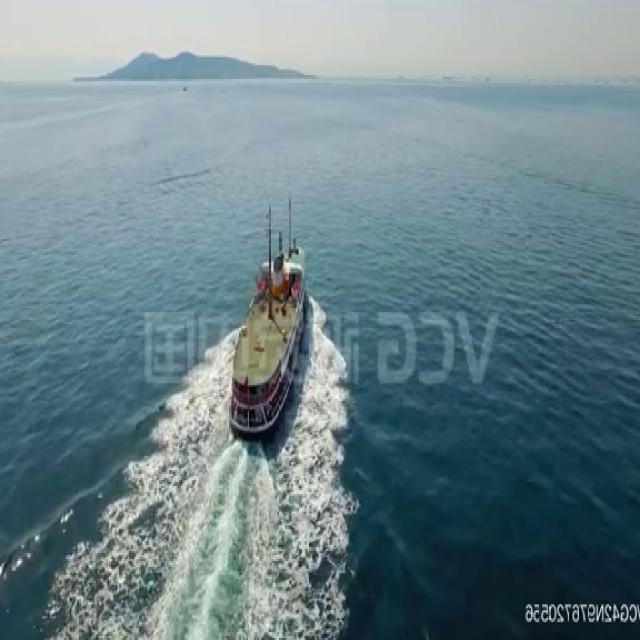passenger ship: (226, 193, 306, 438)
